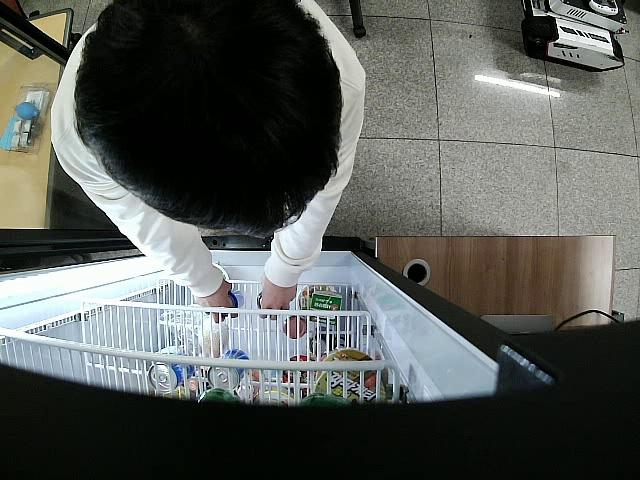00_hand: (256, 276, 299, 322), (197, 279, 237, 324)
